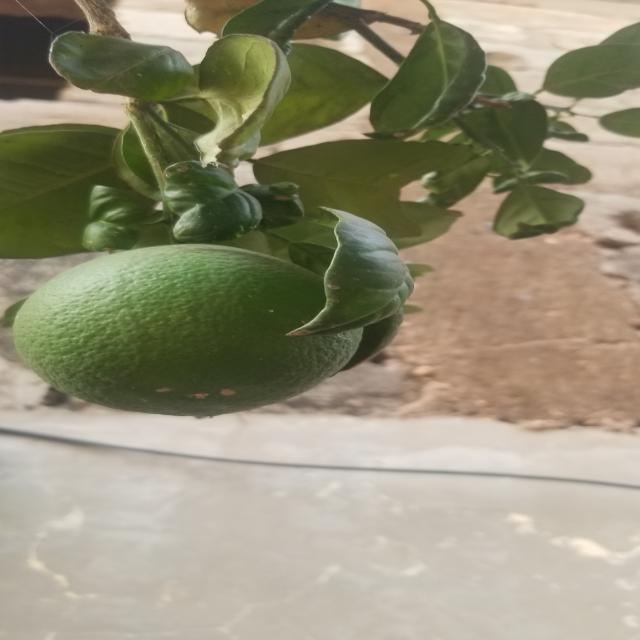Unripe: (10, 238, 372, 429)
